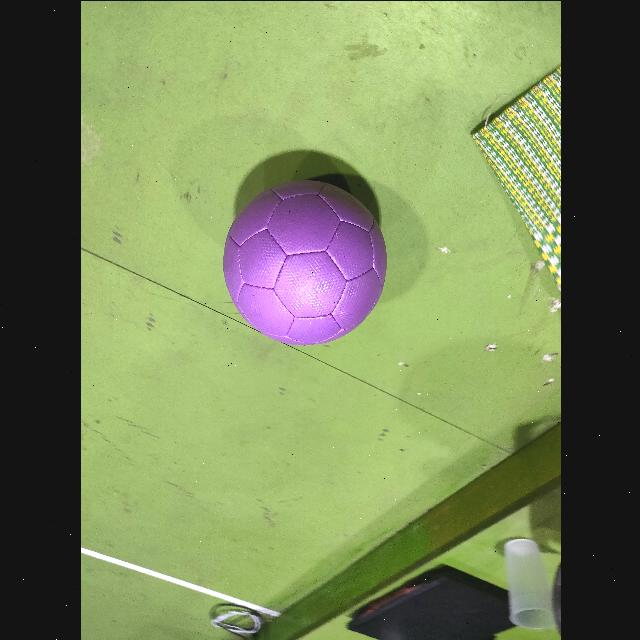P: (223, 180, 385, 344), (552, 560, 560, 638)
